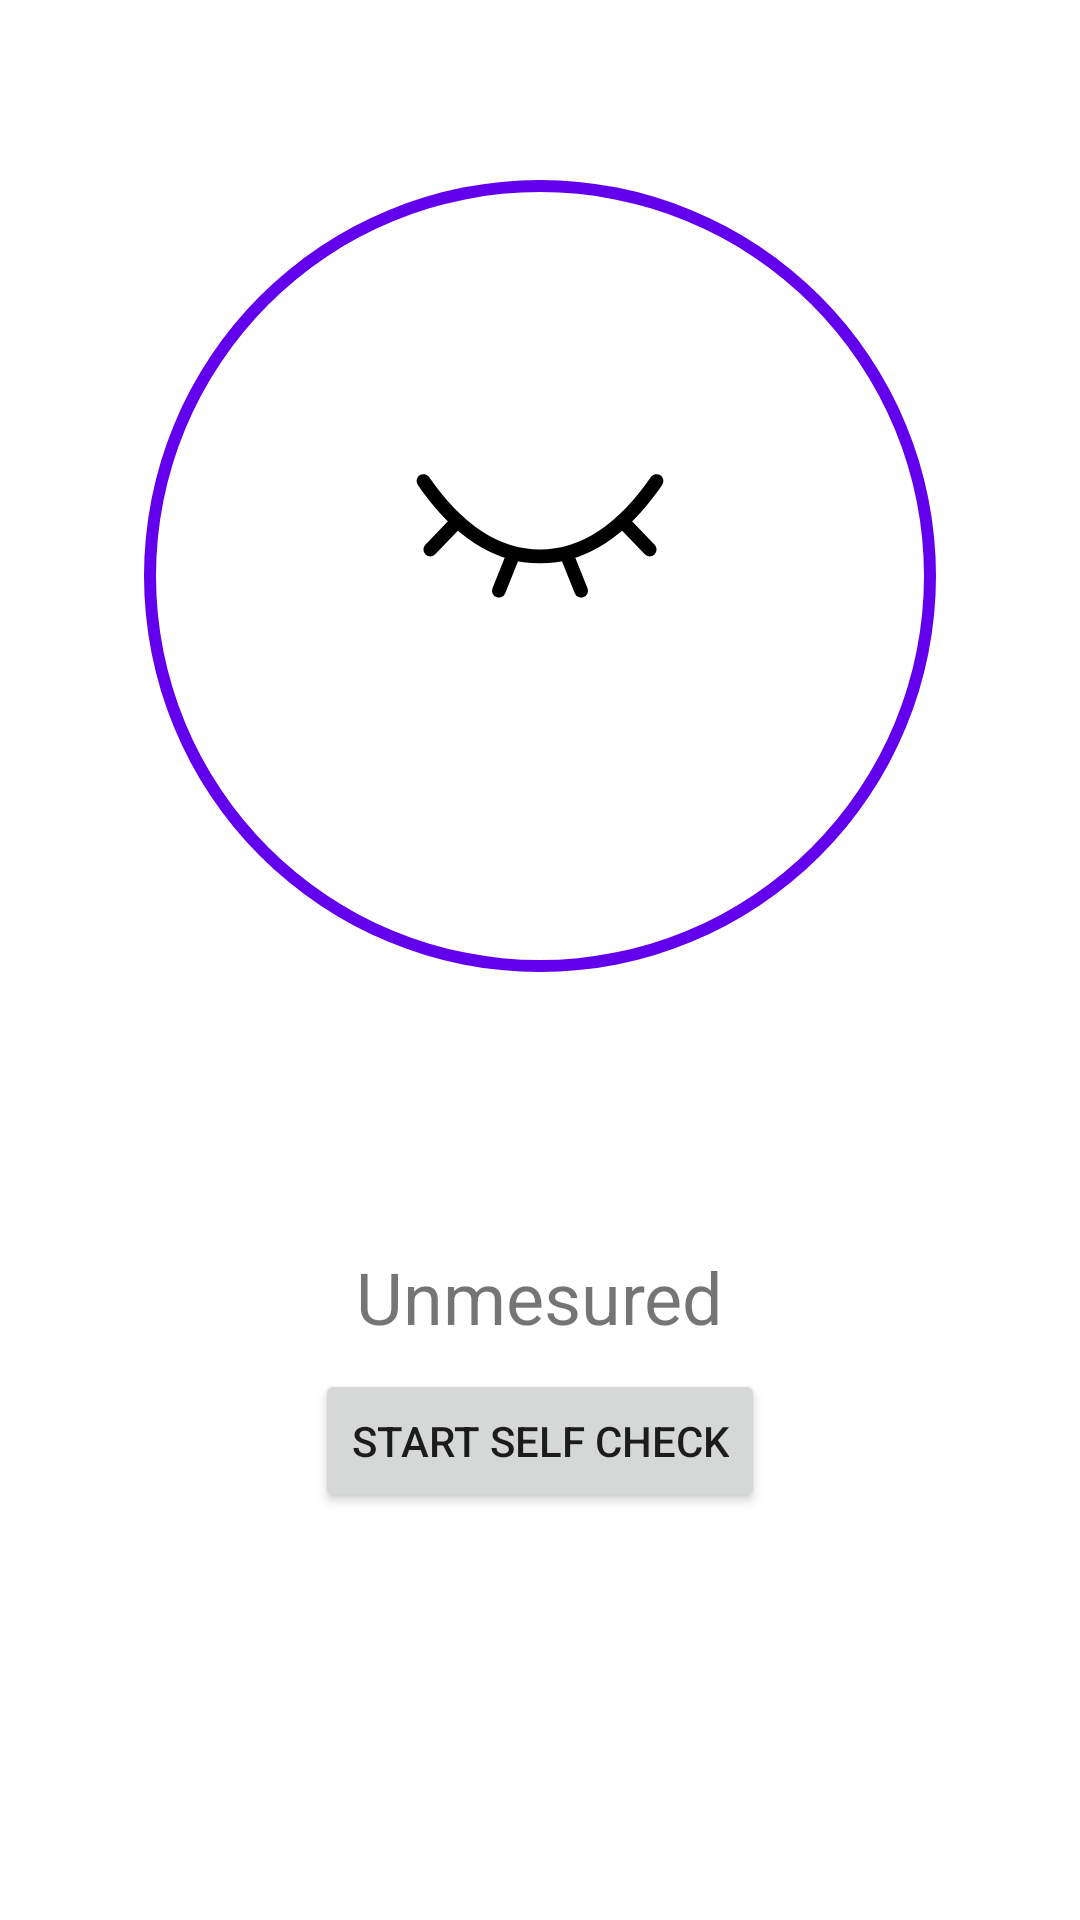

Point at icon controls on the screen. Image size 1080x1920, points as (x=x, y=y).
eye closed: (x=540, y=536)
